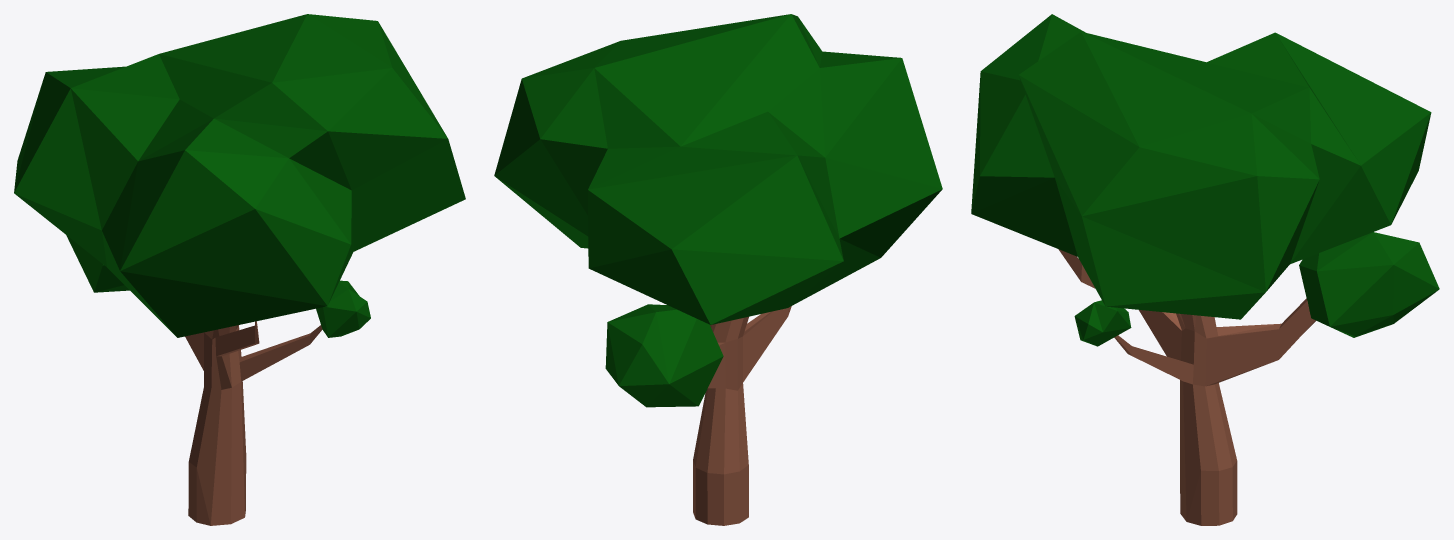
Rendered from tree3_low_poly.fbx.
3 renders of one model, left to right at view 1: azimuth 30°, elevation 25°; view 2: azimuth 150°, elevation 25°; view 3: azimuth 270°, elevation 25°, orthographic. The views are drawn at different scales.
Parts seen in each view (by area): view 1: Leaves, Trunk; view 2: Leaves, Trunk; view 3: Leaves, Trunk.
Boxes of the visible parts, x1=… form: Leaves: x1=14, y1=14, x2=465, y2=337; Trunk: x1=185, y1=321, x2=322, y2=525; Leaves: x1=494, y1=14, x2=942, y2=407; Trunk: x1=693, y1=306, x2=791, y2=525; Leaves: x1=971, y1=14, x2=1439, y2=346; Trunk: x1=1058, y1=249, x2=1315, y2=525.
Bounding box in the file's own units: 5.69 × 6.96 × 6.19.
